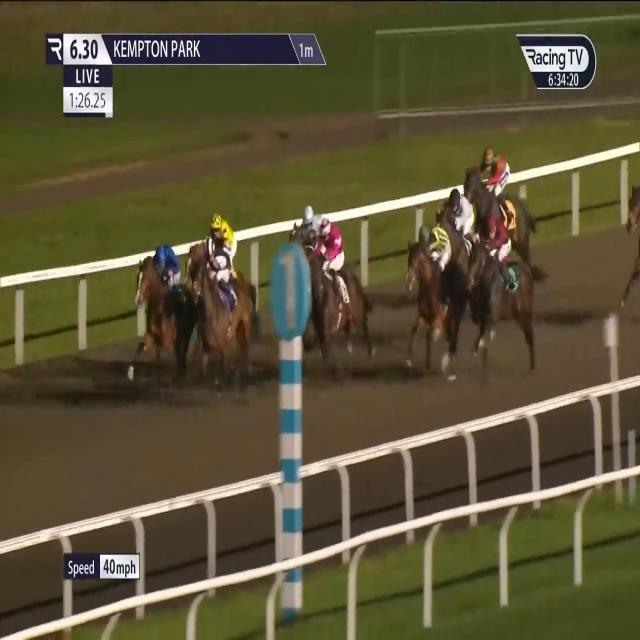horses-racing: (188, 233, 266, 389), (465, 211, 541, 360), (306, 213, 371, 360), (408, 219, 470, 368), (466, 140, 540, 262), (131, 245, 200, 375), (184, 211, 246, 290), (437, 190, 485, 284), (621, 176, 640, 306), (283, 209, 320, 272)
